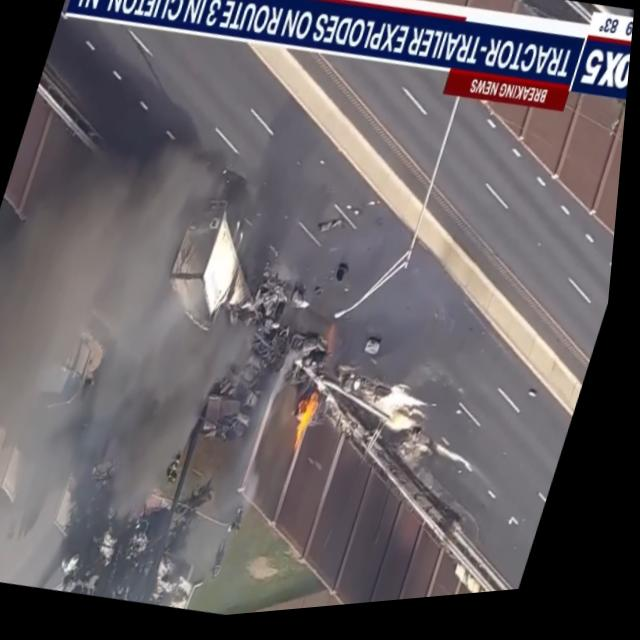Fire: (290, 390, 335, 458)
